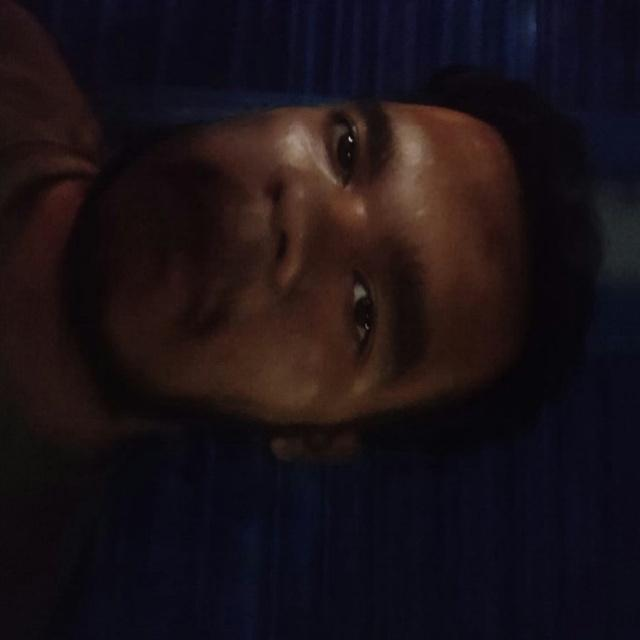Sad: (55, 85, 539, 481)
